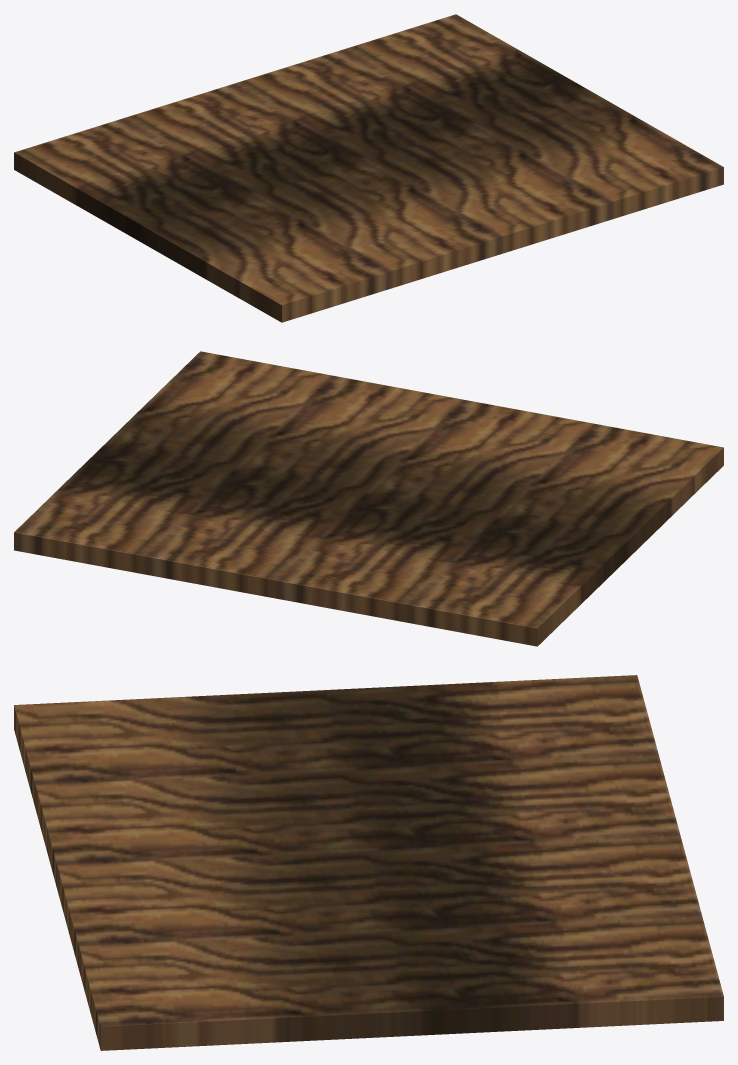
The model's file is SWORDLIGHT20_MAINCAVPLAT02CONV03.fbx.
3 views of the same model, one above another, from view 1: azimuth 30°, elevation 25°; view 2: azimuth 150°, elevation 25°; view 3: azimuth 270°, elevation 25° (orthographic). The views are drawn at different scales.
Visible parts, largest first — view 1: SWORDLIGHT20_MAINCAVPLAT02CONV03; view 2: SWORDLIGHT20_MAINCAVPLAT02CONV03; view 3: SWORDLIGHT20_MAINCAVPLAT02CONV03.
Part boxes in pixels (<box>): SWORDLIGHT20_MAINCAVPLAT02CONV03: <box>14,14,723,322</box>; SWORDLIGHT20_MAINCAVPLAT02CONV03: <box>14,351,723,646</box>; SWORDLIGHT20_MAINCAVPLAT02CONV03: <box>14,675,723,1050</box>.
Bounding box in the file's own units: 78097 × 2500 × 66626.
Materials: 1 (1 with a texture image).
